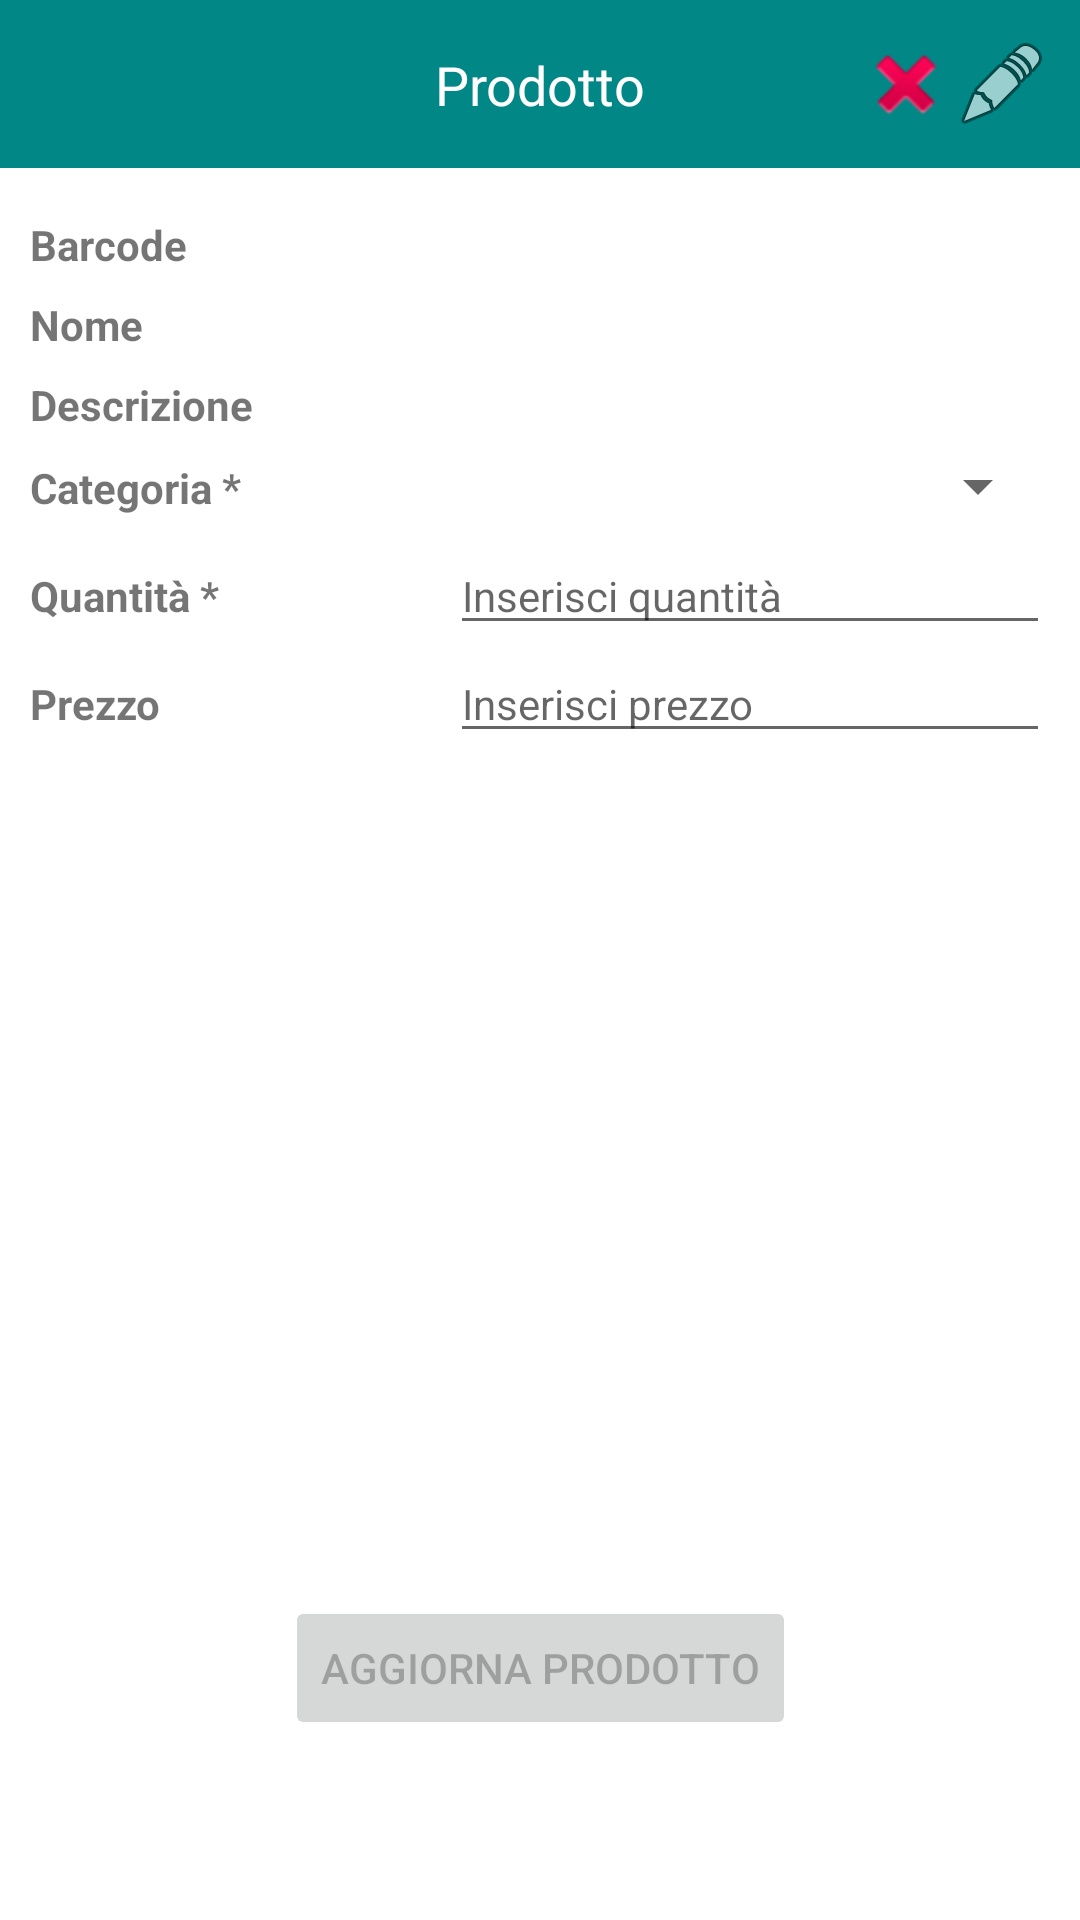

Icon bounding boxes for this 1080*1920 phone screenshot, format (x1, y1, x2, y2):
delete: (875, 55, 937, 114)
edit: (961, 43, 1042, 124)
